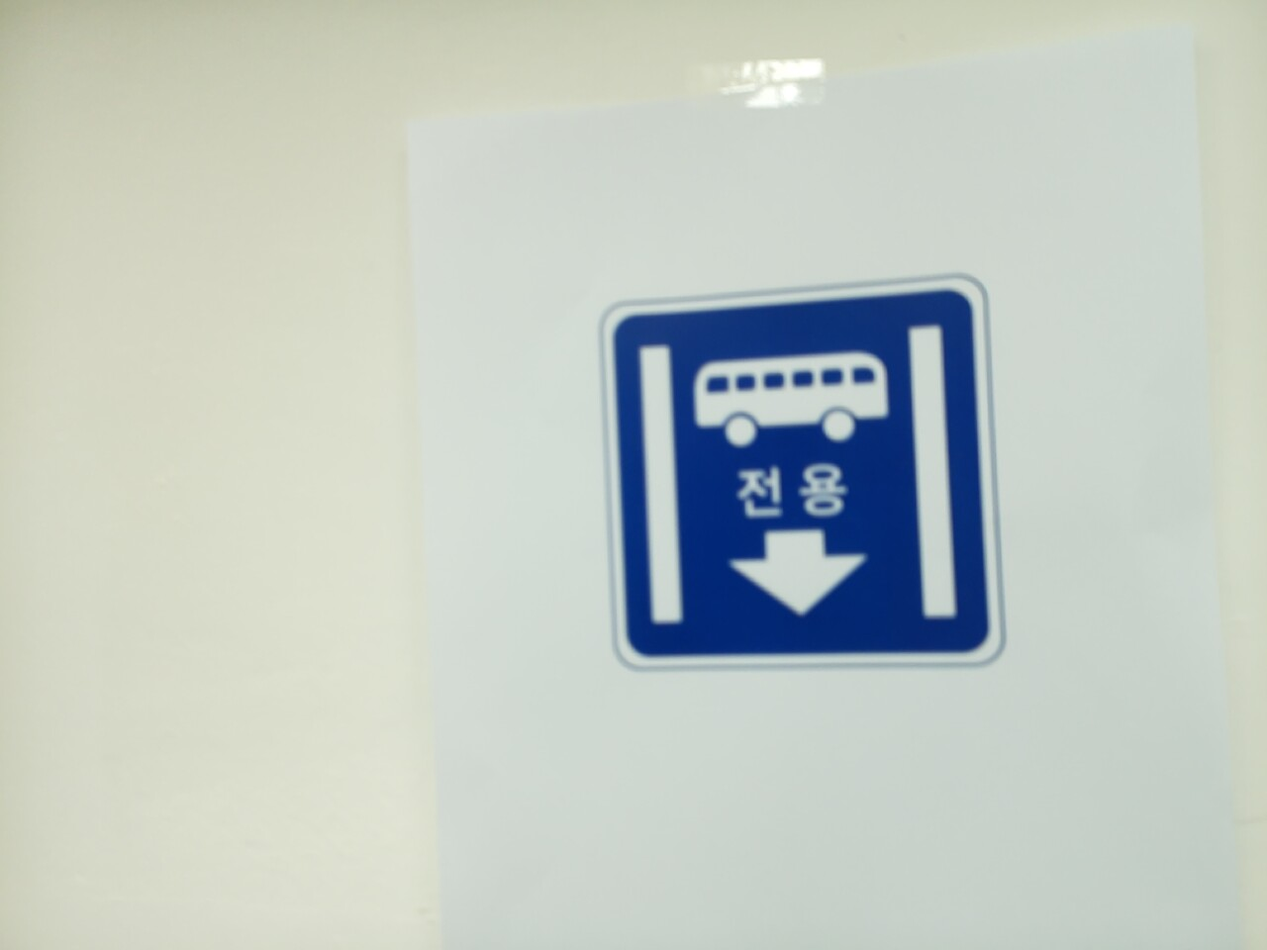bus_only_lane: (602, 279, 1000, 668)
